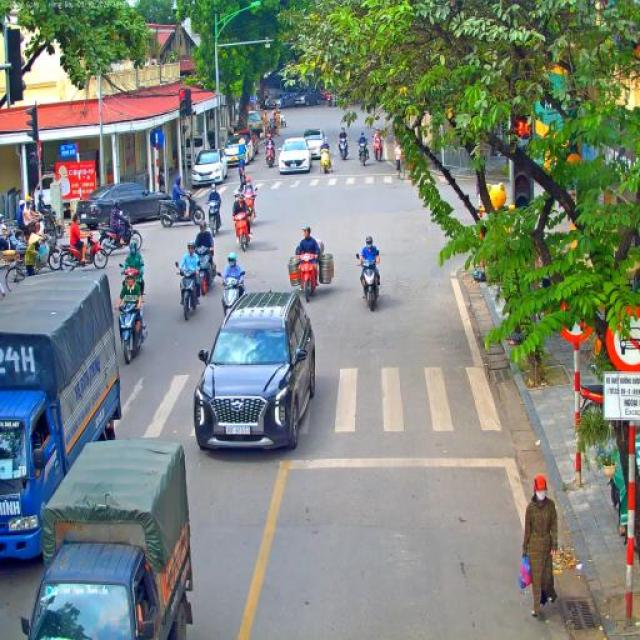car: (192, 290, 316, 450), (71, 182, 174, 229), (191, 148, 225, 188), (278, 137, 312, 174), (230, 129, 256, 161), (300, 128, 324, 161), (221, 137, 249, 165), (296, 86, 326, 106), (278, 92, 298, 108), (268, 93, 282, 111)
motorcycle: (58, 229, 110, 272), (114, 300, 148, 365), (96, 221, 142, 259), (157, 193, 206, 228), (174, 260, 202, 320), (213, 272, 247, 318), (355, 254, 380, 311), (22, 214, 54, 248), (118, 262, 146, 298), (196, 248, 217, 296), (297, 253, 317, 303), (230, 209, 252, 252), (36, 208, 64, 241), (580, 383, 604, 413), (3, 226, 22, 262), (241, 186, 258, 225), (205, 201, 221, 237), (318, 148, 332, 174), (357, 142, 369, 166), (264, 146, 276, 168), (373, 137, 383, 162), (1, 218, 14, 237), (338, 140, 347, 160), (279, 116, 287, 128), (270, 126, 274, 140)
truck: (0, 270, 122, 570), (20, 437, 194, 640), (234, 110, 264, 142)
